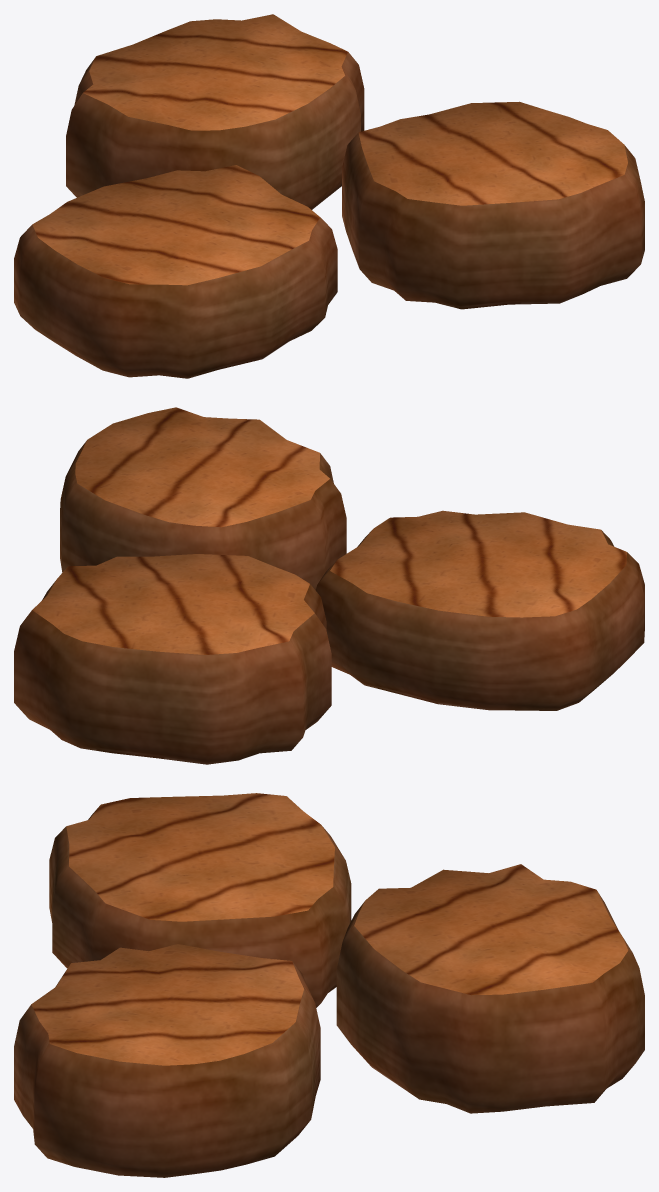
Rendered from crocodile_meat_grilled.glb.
The picture shows the model from 3 angles, top to bottom: view 1: azimuth 30°, elevation 25°; view 2: azimuth 150°, elevation 25°; view 3: azimuth 270°, elevation 25°; orthographic projection. The views are drawn at different scales.
Parts seen in each view (by area): view 1: crocodile_meat_grilled; view 2: crocodile_meat_grilled; view 3: crocodile_meat_grilled.
Part boxes in pixels (x1=…): crocodile_meat_grilled: x1=14, y1=14, x2=644, y2=378; crocodile_meat_grilled: x1=14, y1=407, x2=644, y2=764; crocodile_meat_grilled: x1=14, y1=793, x2=644, y2=1177.
Bounding box in the file's own units: 0.1154 × 0.0221 × 0.1032.
2 materials, 2 textured.
